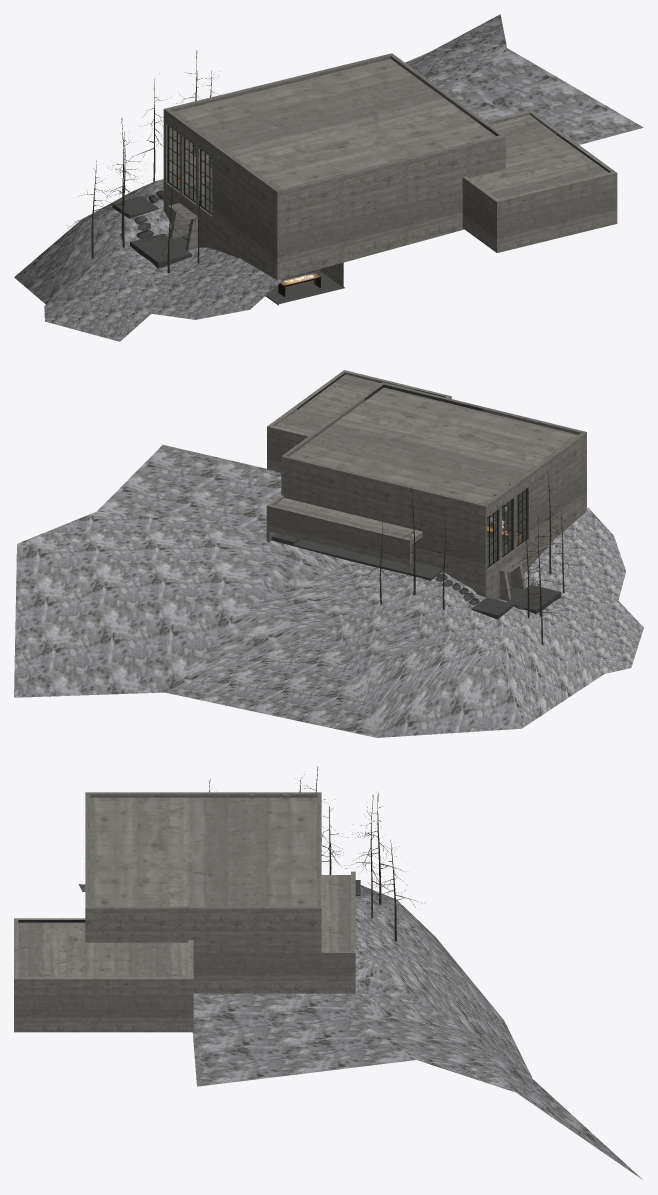
The model's file is world.glb.
The picture shows the model from 3 angles, top to bottom: view 1: azimuth 30°, elevation 25°; view 2: azimuth 150°, elevation 25°; view 3: azimuth 270°, elevation 25°; orthographic projection. The views are drawn at different scales.
Visible parts, largest first — view 1: 0_concrete_front, 0_landscape, 0_concrete_back_color, 0_concrete_back, 0_trees, 0_floor_ceiling, 0_window; view 2: 0_landscape, 0_concrete_front, 0_concrete_back, 0_concrete_back_color, 0_trees, 0_floor_ceiling, 0_window; view 3: 0_landscape, 0_concrete_front, 0_concrete_back, 0_concrete_back_color, 0_trees.
Boxes of the visible parts, box(x1,y1,x2,y2) form: 0_concrete_front: box(163, 59, 495, 287); 0_landscape: box(14, 14, 643, 341); 0_concrete_back_color: box(462, 109, 617, 252); 0_concrete_back: box(287, 53, 505, 177); 0_trees: box(66, 50, 220, 273); 0_floor_ceiling: box(182, 181, 344, 305); 0_window: box(167, 125, 212, 214); 0_landscape: box(14, 445, 643, 737); 0_concrete_front: box(289, 387, 586, 601); 0_concrete_back: box(266, 382, 422, 565); 0_concrete_back_color: box(267, 370, 483, 472); 0_trees: box(367, 470, 584, 645); 0_floor_ceiling: box(271, 533, 513, 590); 0_window: box(487, 488, 527, 568); 0_landscape: box(78, 880, 642, 1179); 0_concrete_front: box(85, 792, 321, 906); 0_concrete_back: box(85, 855, 355, 994); 0_concrete_back_color: box(14, 918, 193, 1032); 0_trees: box(208, 766, 425, 941).
Size of the model in its own units: 46.23 by 17.77 by 42.42.
Materials: 33 (28 with a texture image).
